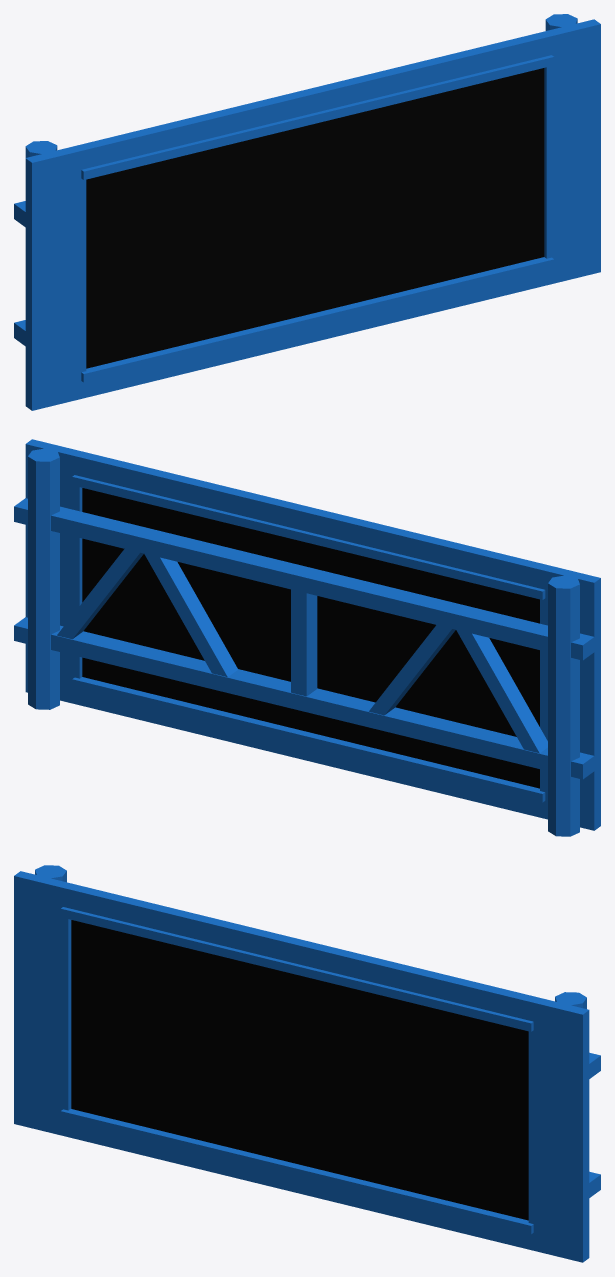
File: SM_wall7.fbx
The picture shows the model from 3 angles, top to bottom: view 1: azimuth 30°, elevation 25°; view 2: azimuth 150°, elevation 25°; view 3: azimuth 330°, elevation 25°; orthographic projection.
Parts seen in each view (by area): view 1: wall7; view 2: wall7; view 3: wall7.
Boxes of the visible parts, x1=… form: wall7: x1=14, y1=14, x2=600, y2=410; wall7: x1=14, y1=439, x2=600, y2=836; wall7: x1=14, y1=865, x2=600, y2=1262.
Size of the model in its own units: 600 by 250 by 44.22.
